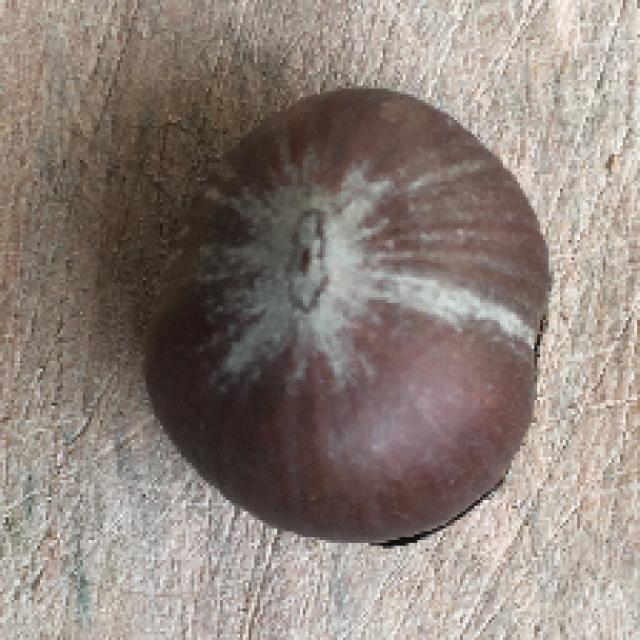damagedHazelnut: (156, 80, 553, 556)
